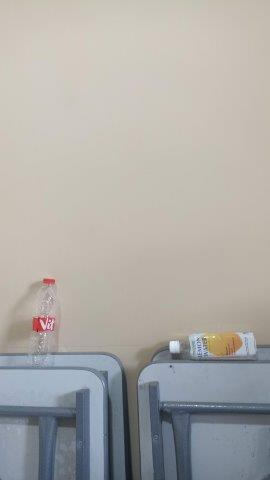botolplastik: (26, 278, 59, 367), (169, 333, 258, 362)
